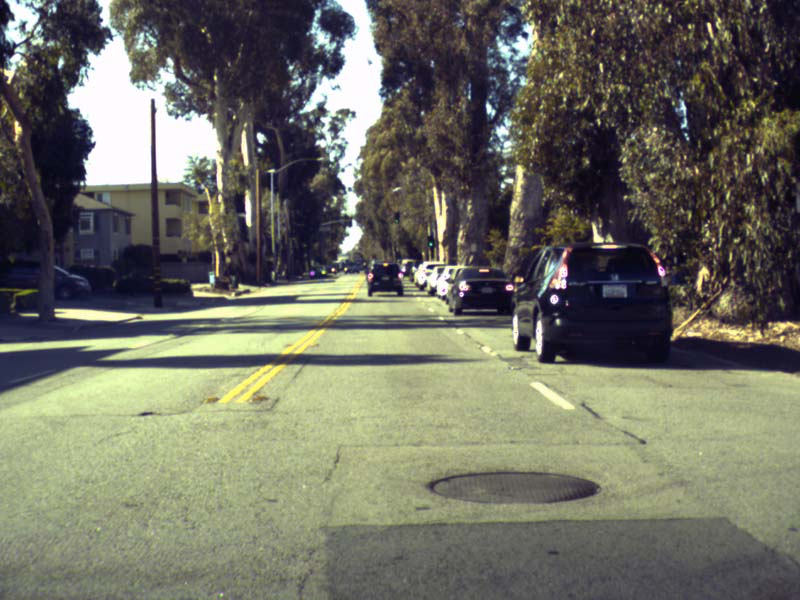Green: (427, 237, 434, 246), (393, 212, 399, 222)
